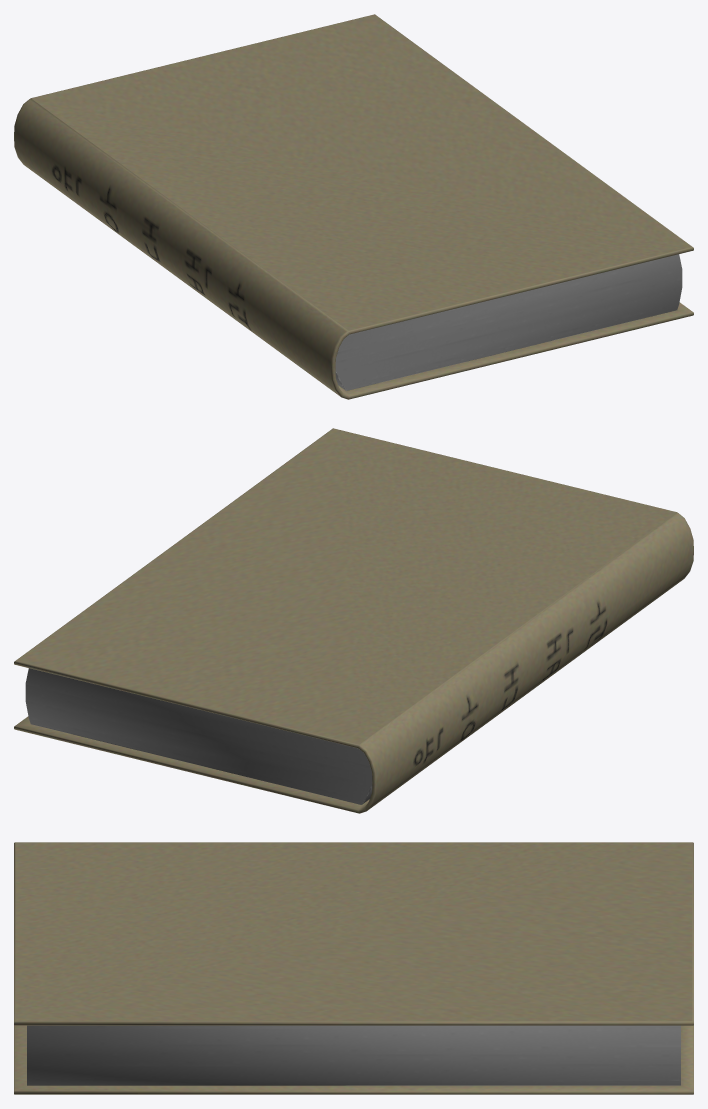
Rendered from book2.glb.
3 views of the same model, one above another, from view 1: azimuth 30°, elevation 25°; view 2: azimuth 150°, elevation 25°; view 3: azimuth 270°, elevation 25° (orthographic). The views are drawn at different scales.
Parts seen in each view (by area): view 1: Cube, Cube.001; view 2: Cube, Cube.001; view 3: Cube, Cube.001.
Boxes of the visible parts, x1,y1,x2,y2 form: Cube: (14,14,693,399); Cube.001: (335,254,682,390); Cube: (14,428,693,813); Cube.001: (25,668,372,804); Cube: (14,842,693,1094); Cube.001: (27,1025,680,1085).
Bounding box in the file's own units: 105 × 19 × 160.
2 materials, 2 textured.
